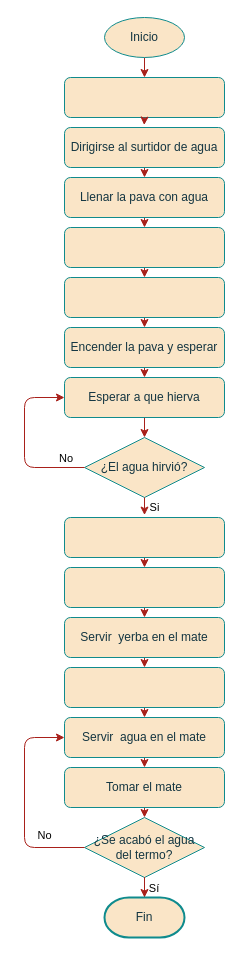
Some shapes in this 242 by 963 pixel diagram are drawn without their labels. Here are the shapes that lost their labels. From the top down, the centre of each, then its label:
At [144,97]: "Agarrar la pava eléctrica".
At [144,247]: "Volver a la base".
At [144,297]: "Colocar la pava en su lugar".
At [144,537]: "Destapar el termo y llenarlo".
At [144,587]: "Tapar el termo".
At [144,687]: "Ingresar la bombilla al mate".
